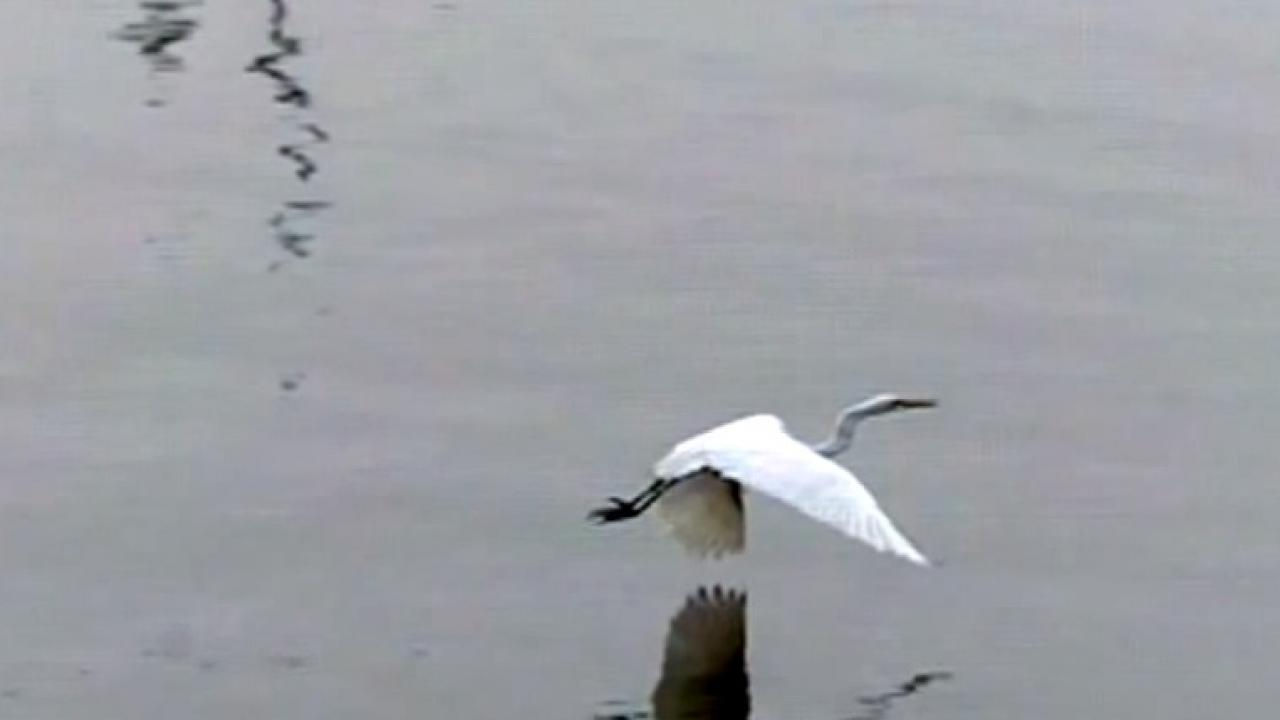Bird: (574, 385, 976, 590)
